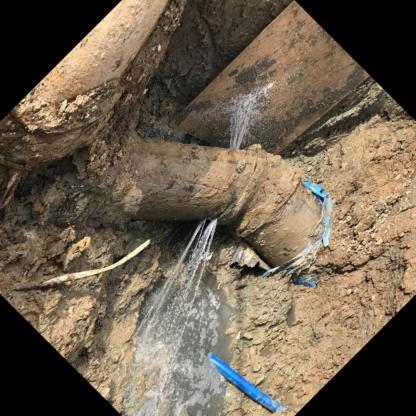burst: (190, 198, 245, 255), (218, 128, 257, 161)
